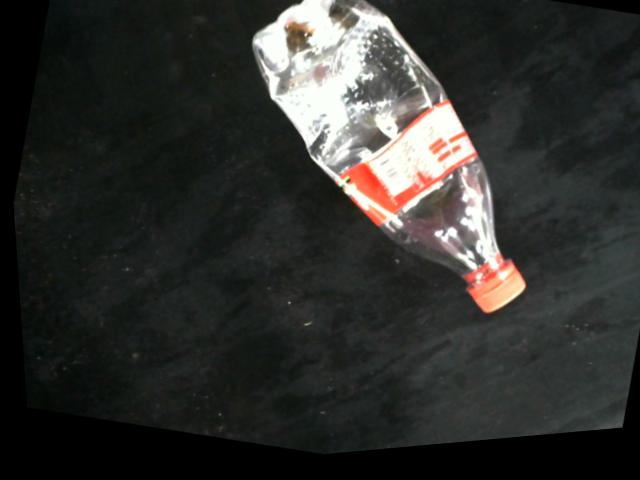bottle: (250, 0, 524, 325)
